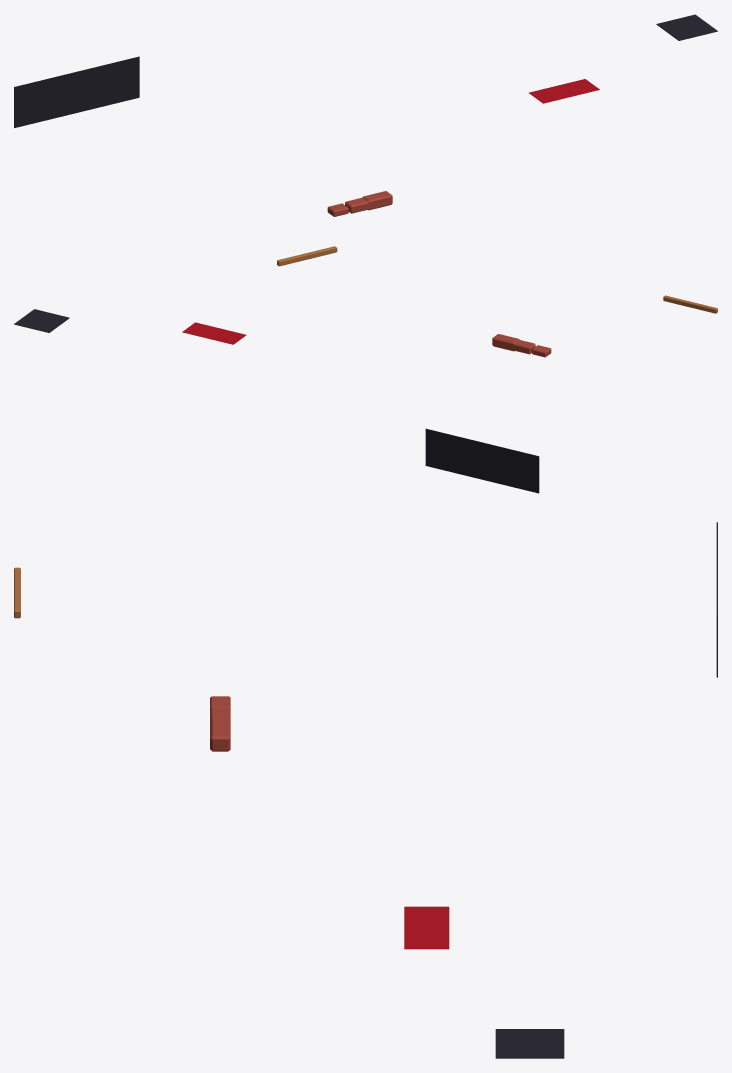
The model's file is D-PARK.w3.glb.
The picture shows the model from 3 angles, top to bottom: view 1: azimuth 30°, elevation 25°; view 2: azimuth 150°, elevation 25°; view 3: azimuth 270°, elevation 25°; orthographic projection. The views are drawn at different scales.
Visible parts, largest first — view 1: pal_uiDark, pal_brick.002, pal_blood.001, pal_woodWarm.001; view 2: pal_uiDark, pal_brick.002, pal_blood.001, pal_woodWarm.001; view 3: pal_uiDark, pal_blood.001, pal_brick.002.
Boxes of the visible parts, x1,y1,x2,y2 form: pal_uiDark: (14, 14, 717, 127); pal_brick.002: (327, 191, 392, 216); pal_blood.001: (529, 79, 599, 103); pal_woodWarm.001: (277, 246, 337, 266); pal_uiDark: (14, 309, 539, 493); pal_brick.002: (492, 334, 551, 357); pal_blood.001: (182, 322, 246, 344); pal_woodWarm.001: (663, 295, 717, 313); pal_uiDark: (495, 522, 717, 1058); pal_blood.001: (404, 906, 449, 949); pal_brick.002: (210, 696, 230, 751).
Size of the model in its own units: 32.2 by 2.33 by 20.46.
